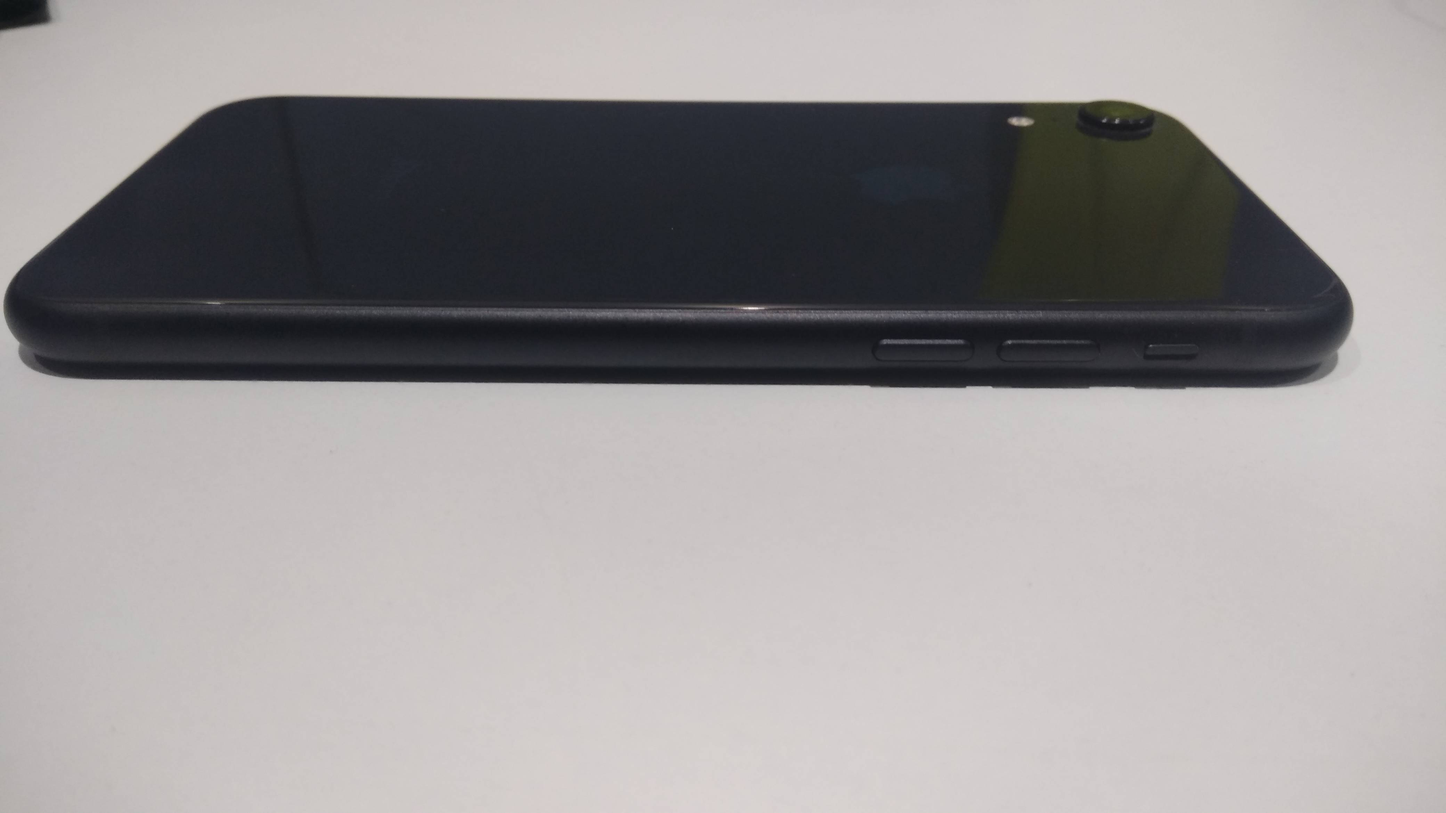Electronics: (2, 71, 1364, 401)
